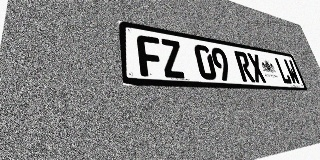0: (193, 44, 218, 80)
9: (210, 47, 233, 81)
F: (136, 34, 164, 77)
L: (274, 57, 293, 84)
R: (234, 51, 255, 82)
W: (283, 59, 301, 85)
X: (246, 53, 267, 83)
Z: (159, 38, 186, 79)
